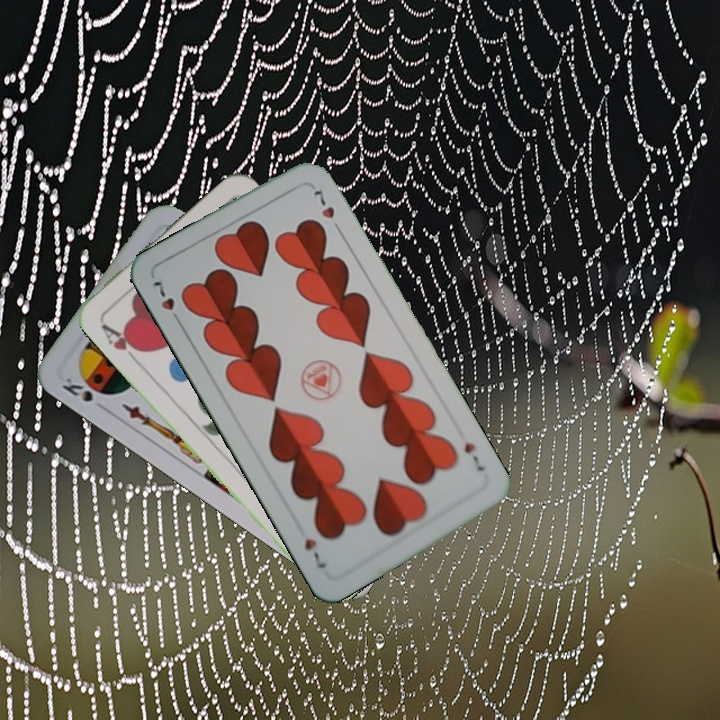H7: (148, 277, 185, 328), (460, 438, 490, 475)
HA: (97, 319, 147, 365)
SK: (58, 373, 96, 405)
